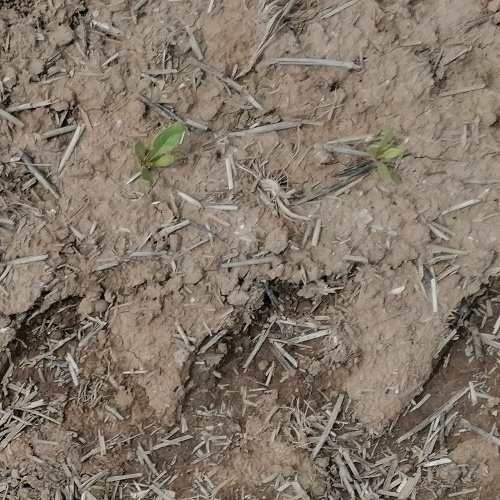beet: (134, 120, 188, 185), (365, 130, 401, 183)
